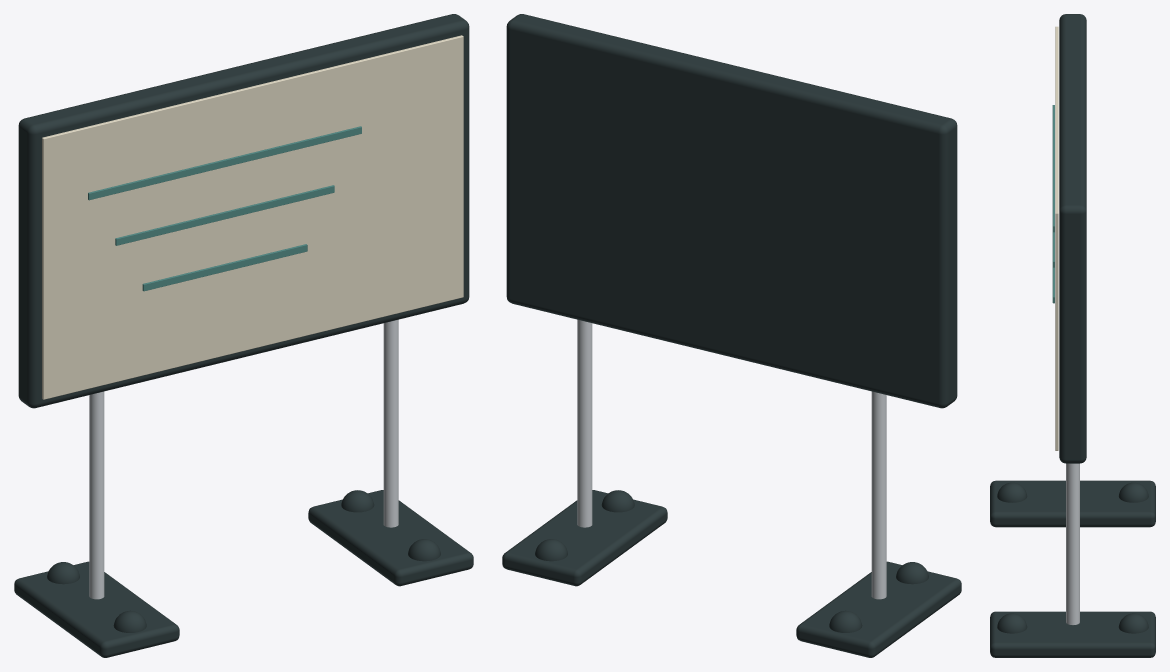
File: objectives.glb
The picture shows the model from 3 angles, left to right: view 1: azimuth 30°, elevation 25°; view 2: azimuth 150°, elevation 25°; view 3: azimuth 270°, elevation 25°; orthographic projection. The views are drawn at different scales.
Parts seen in each view (by area): view 1: objectives; view 2: objectives; view 3: objectives.
Boxes of the visible parts, x1,y1,x2,y2 form: objectives: [14, 14, 473, 657]; objectives: [502, 14, 961, 657]; objectives: [990, 14, 1155, 657].
Size of the model in its own units: 1.68 by 1.86 by 0.6.
